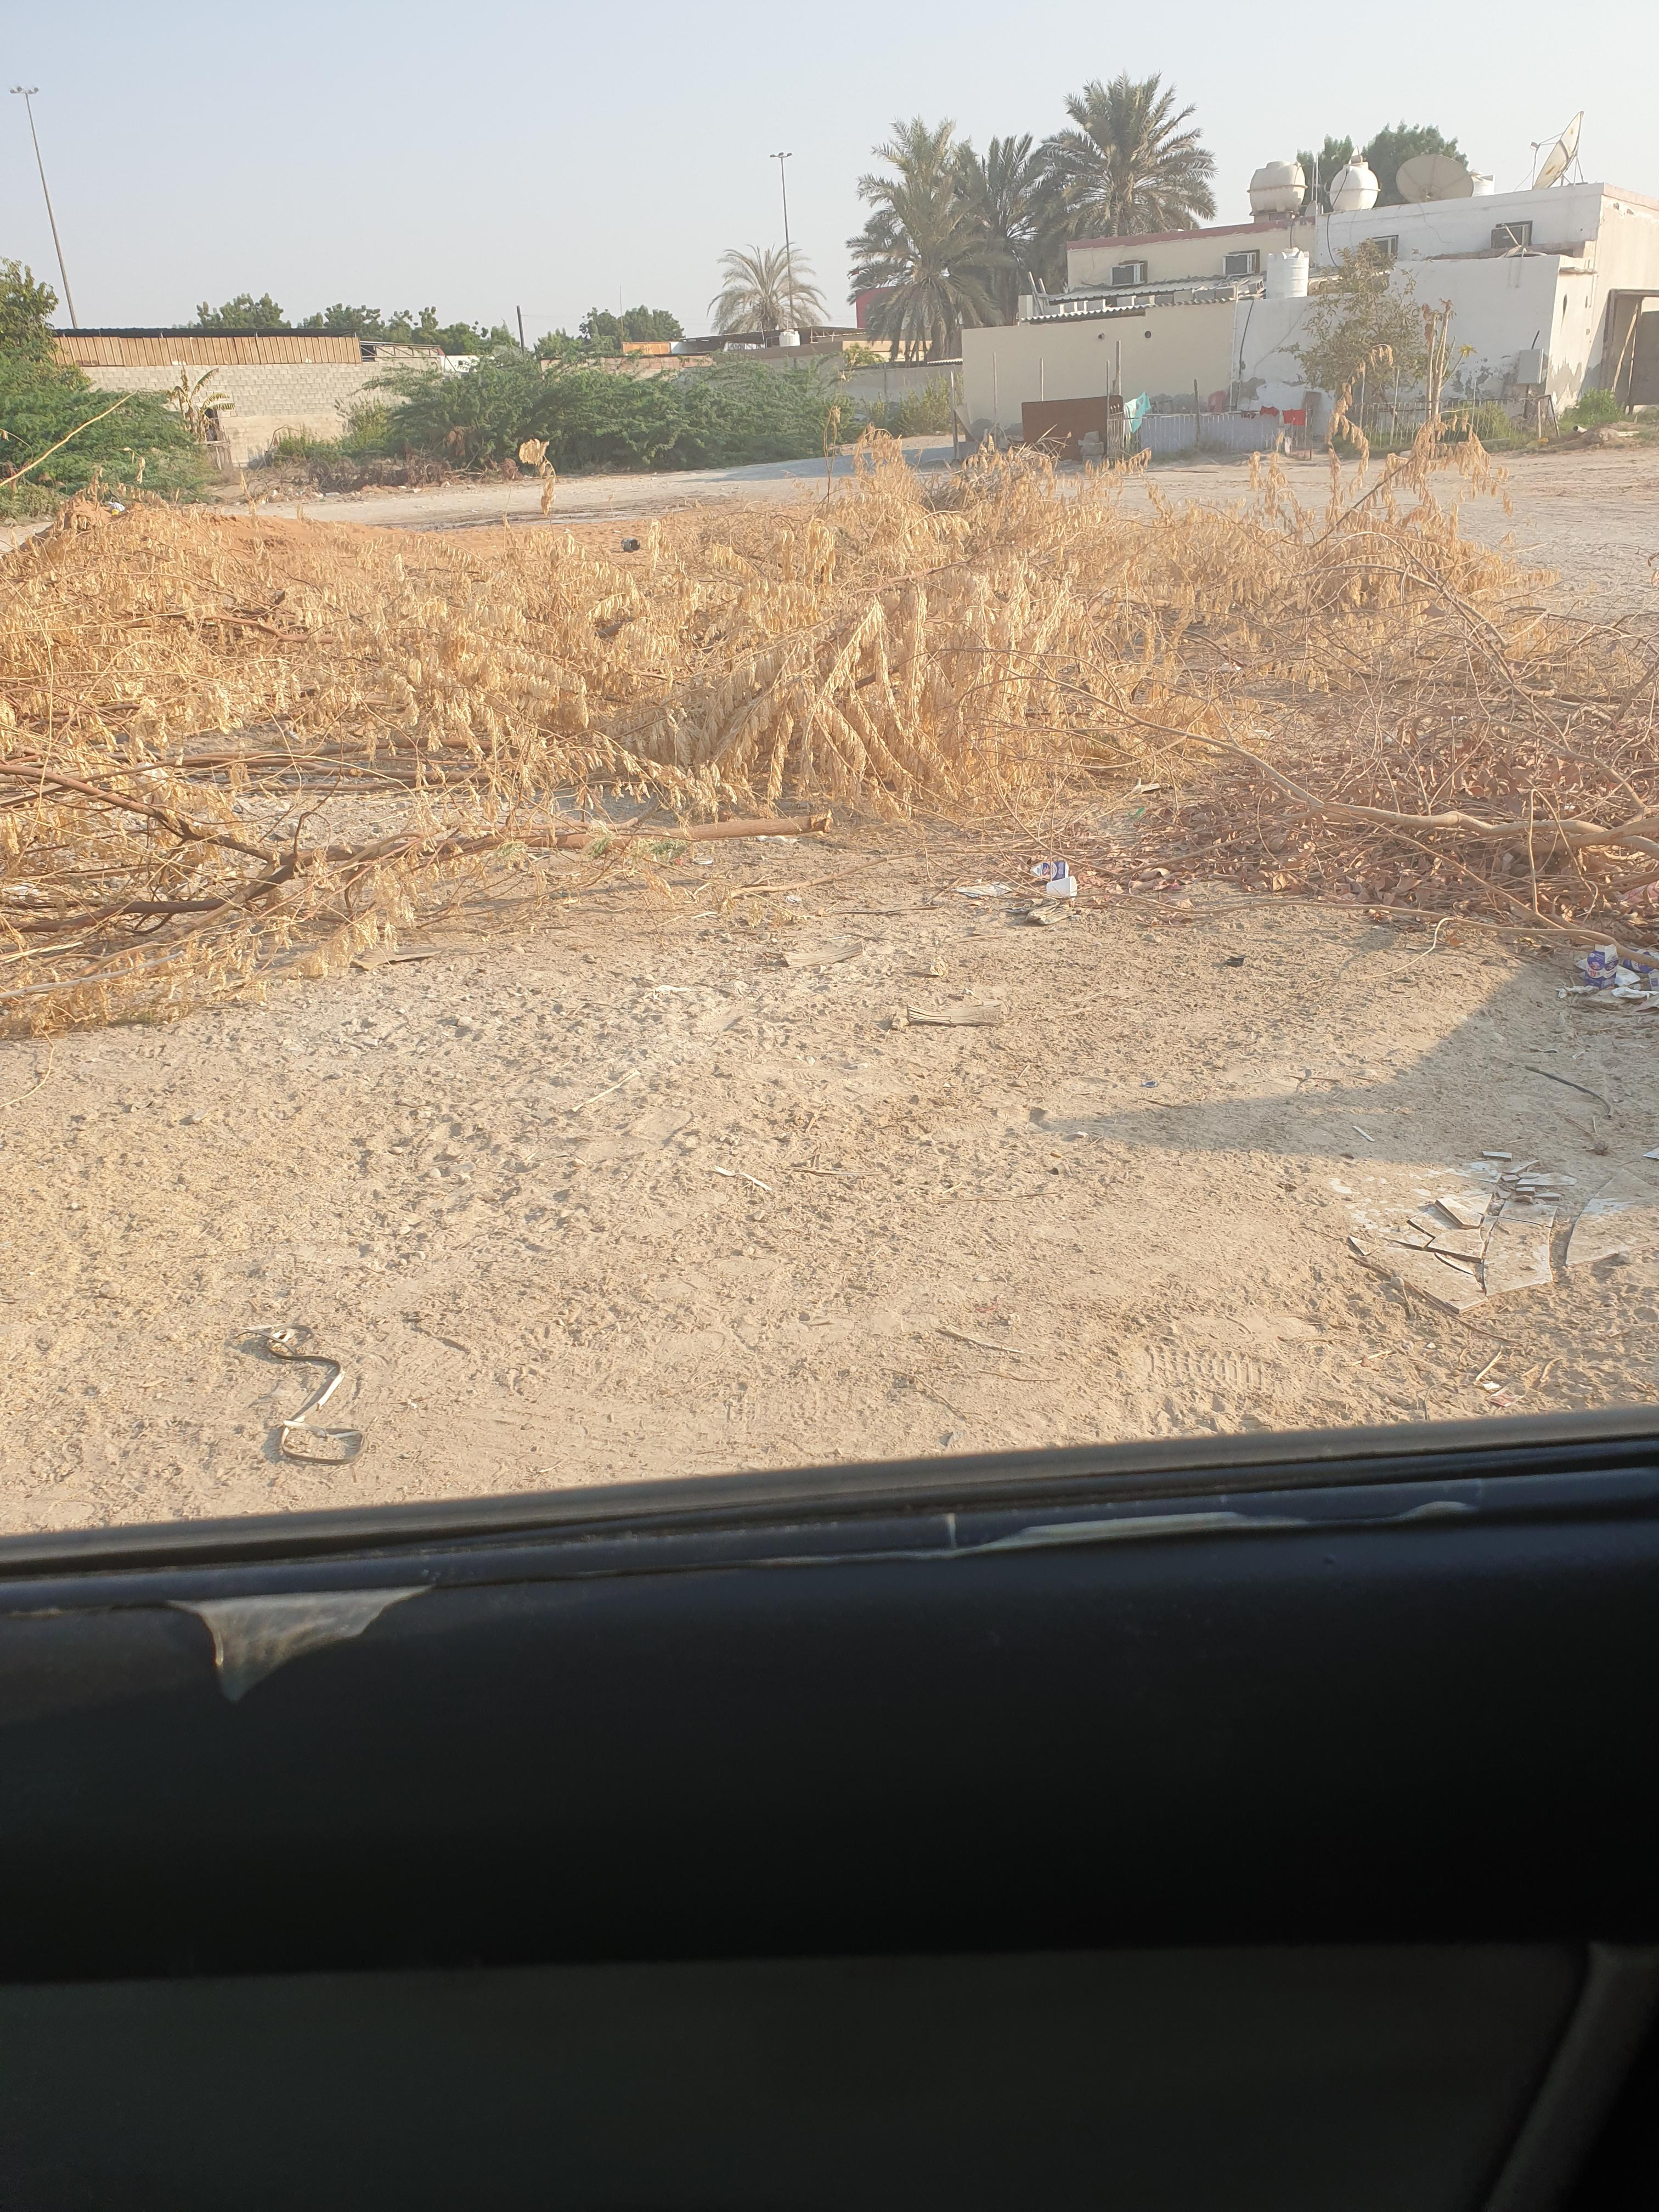fallen_trees: (45, 495, 887, 1033), (683, 442, 1631, 850), (997, 646, 1654, 998), (422, 604, 1087, 923), (526, 669, 967, 961), (166, 704, 620, 944)
